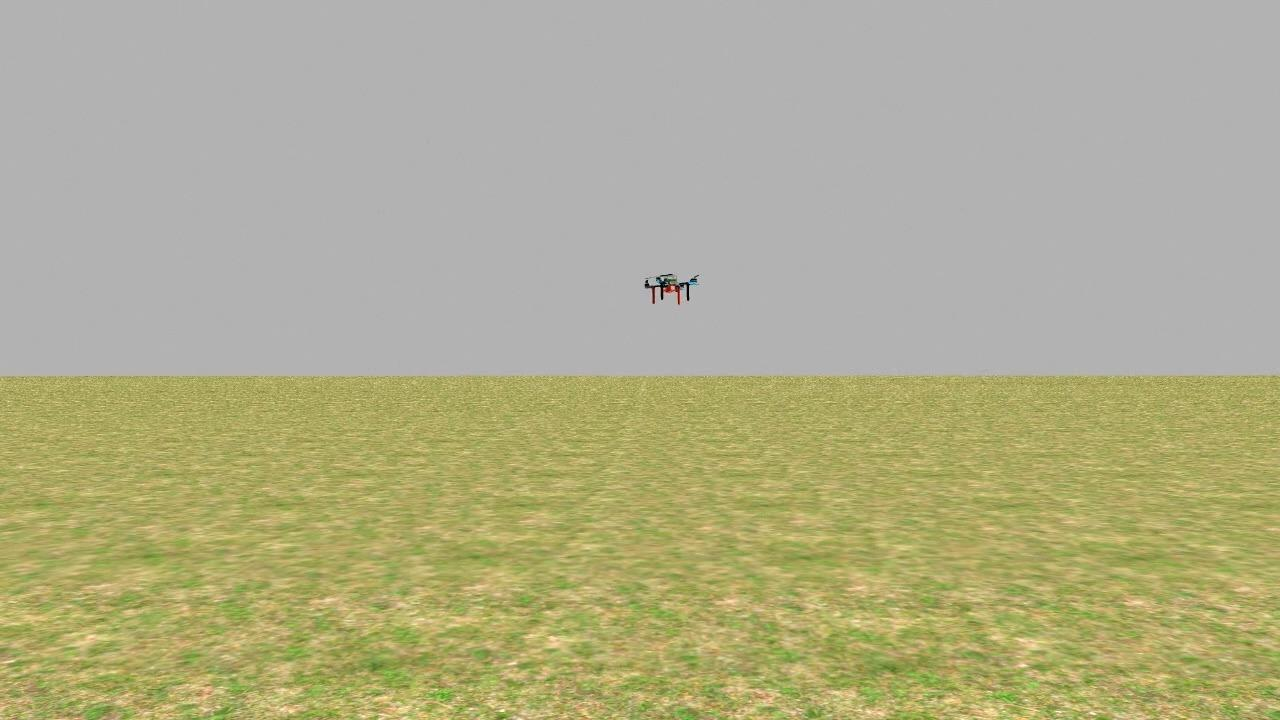UAV: (637, 263, 701, 311)
